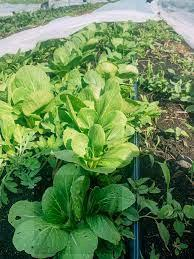Healthy-Pechay: (0, 32, 152, 259), (144, 160, 194, 240), (91, 20, 170, 35)
